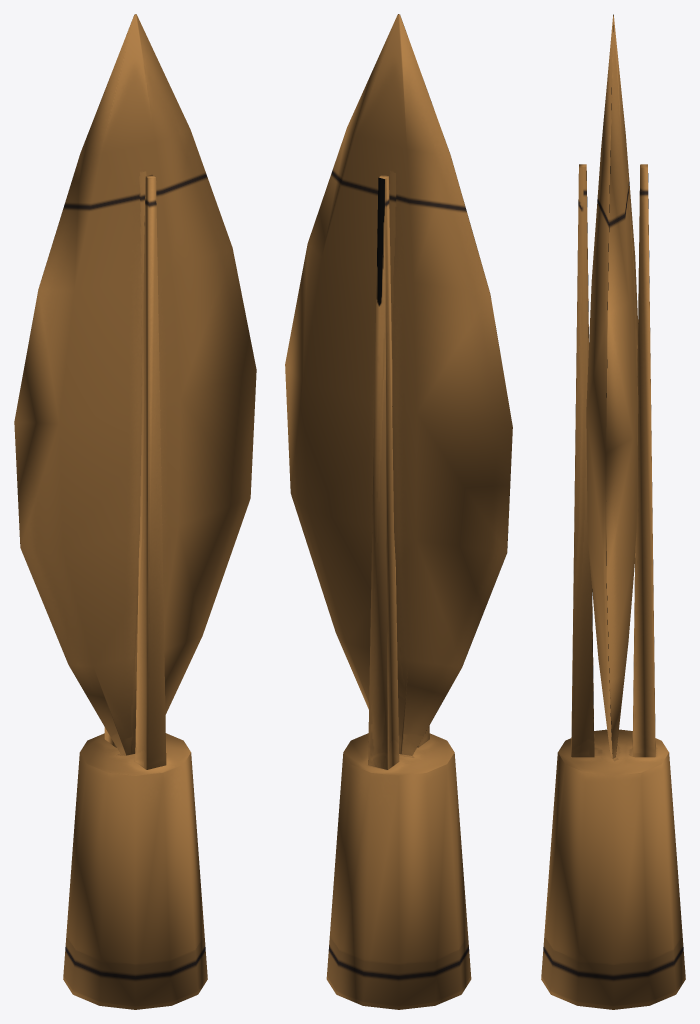
The model's file is Atalanta_LanzaPunta.fbx.
3 views of the same model, side by side, from view 1: azimuth 30°, elevation 25°; view 2: azimuth 150°, elevation 25°; view 3: azimuth 270°, elevation 25° (orthographic).
Parts seen in each view (by area): view 1: Atalanta_LanzaPunta; view 2: Atalanta_LanzaPunta; view 3: Atalanta_LanzaPunta.
Part boxes in pixels (x1,y1,x2,y2): Atalanta_LanzaPunta: (14, 14, 256, 1009); Atalanta_LanzaPunta: (285, 14, 512, 1009); Atalanta_LanzaPunta: (541, 14, 685, 1009).
Bounding box in the file's own units: 0.348 × 1.37 × 0.1856.
